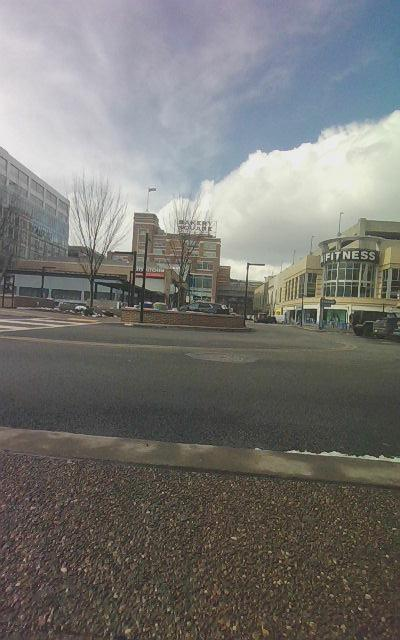curb: (0, 428, 399, 639)
road: (0, 317, 399, 460)
